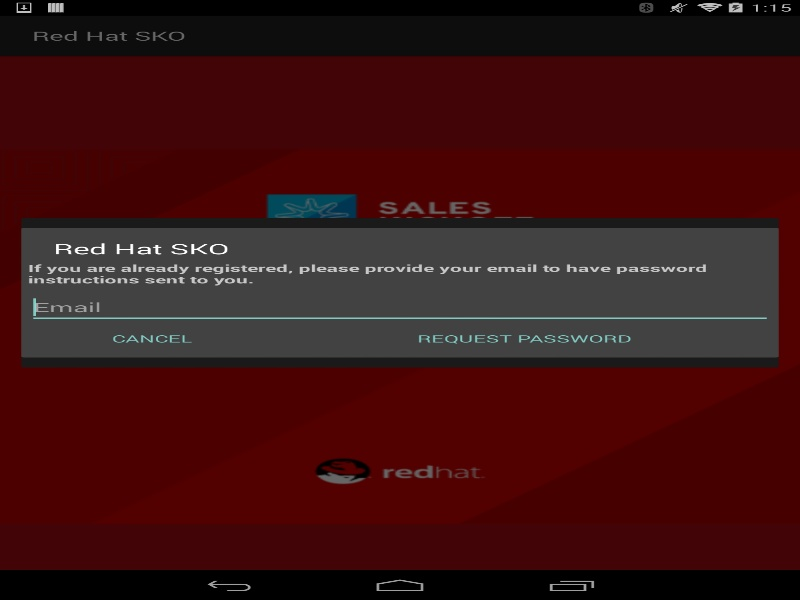Button: (276, 323, 772, 354), (28, 323, 276, 354)
Input: (28, 291, 772, 323)
